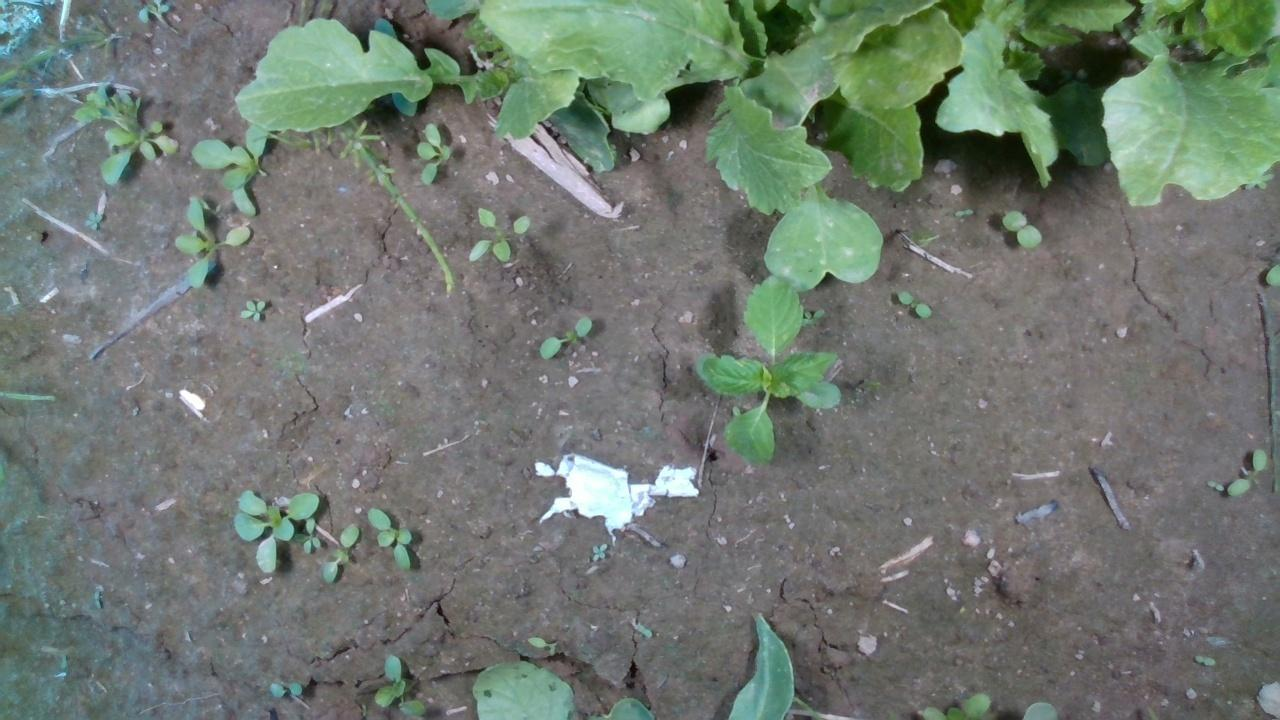weed: (465, 203, 529, 264), (366, 505, 413, 571), (413, 120, 453, 185), (537, 314, 592, 359), (321, 521, 359, 583), (1226, 447, 1265, 496), (999, 208, 1042, 249), (897, 290, 933, 320), (237, 298, 265, 324), (526, 633, 558, 655), (265, 680, 301, 699), (81, 209, 103, 232), (590, 541, 606, 563), (1205, 478, 1224, 492), (952, 207, 974, 219)
